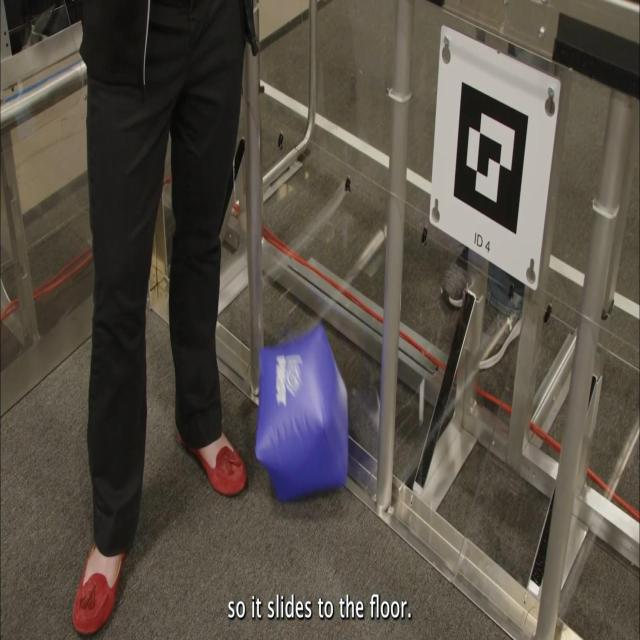frc_cube: (256, 319, 349, 502)
